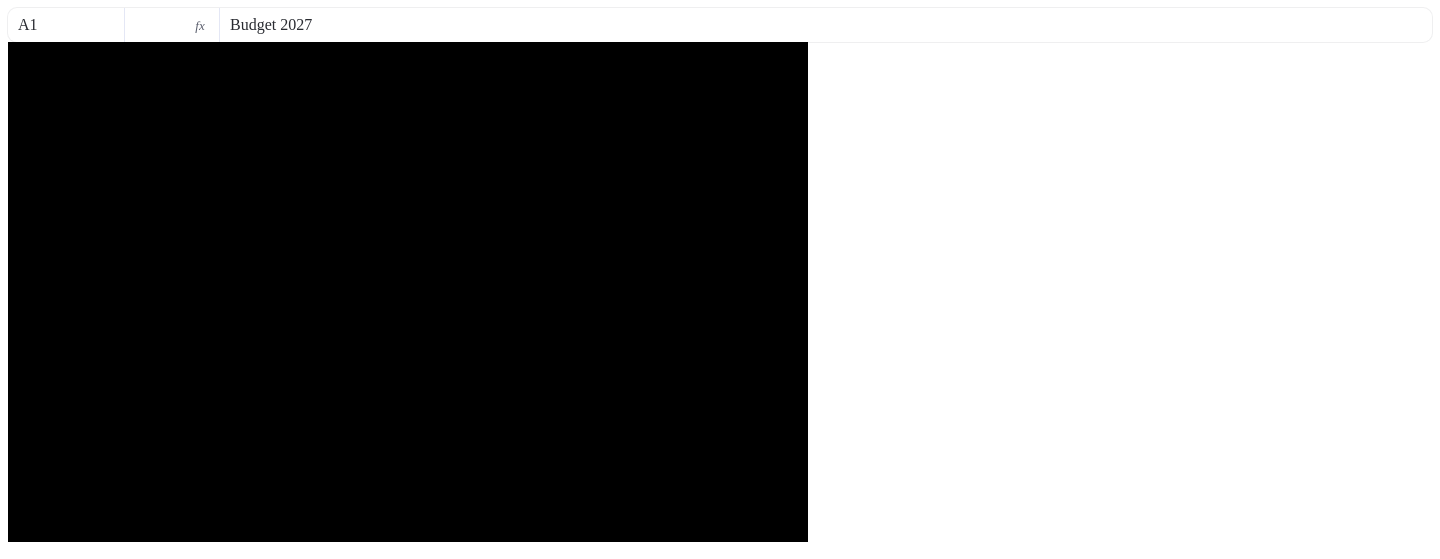
the clipboard › copies both flavours of the selection and marks it
Press the mouse on the element with class "sg-scroller" at (408, 292), box 8,42 -> 808,542
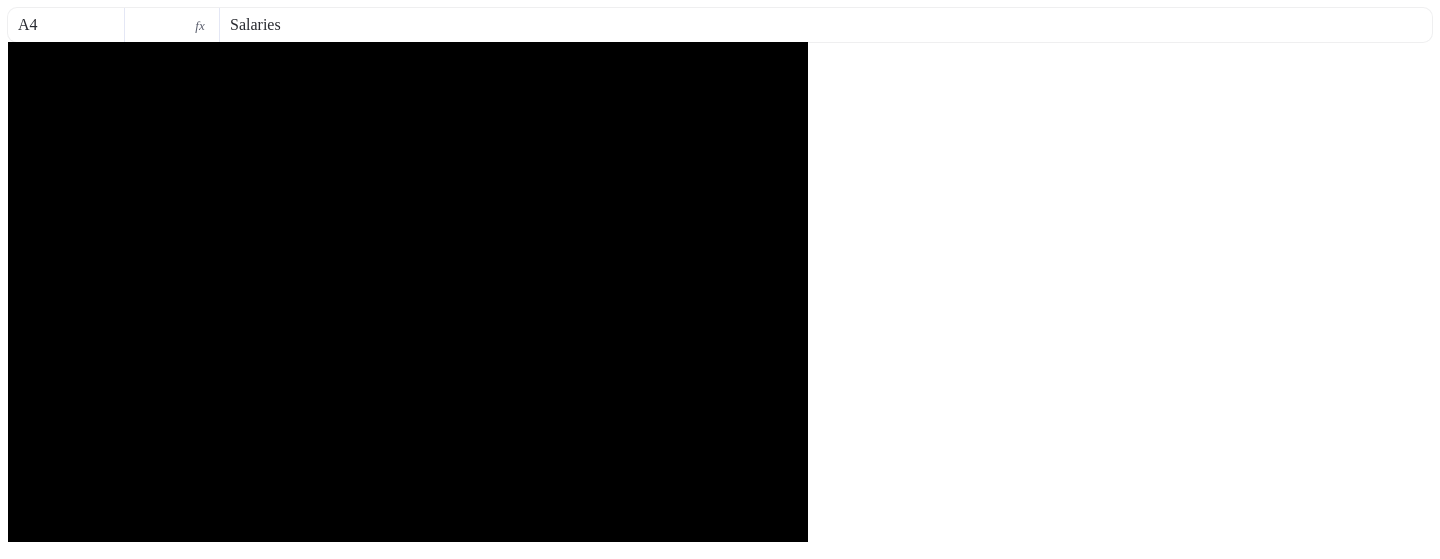
Press the mouse on the element with class "sg-scroller" at (408, 292), box 8,42 -> 808,542
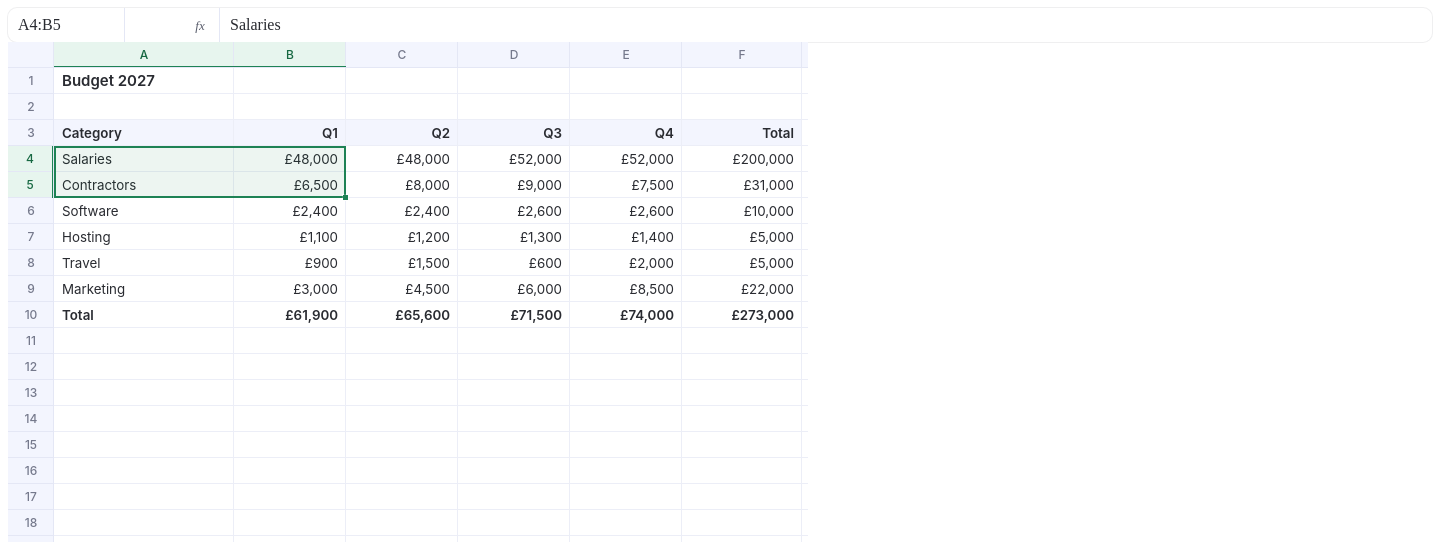
expect the element with class "sg-clip" is shown: met, box 54,146 -> 346,198
